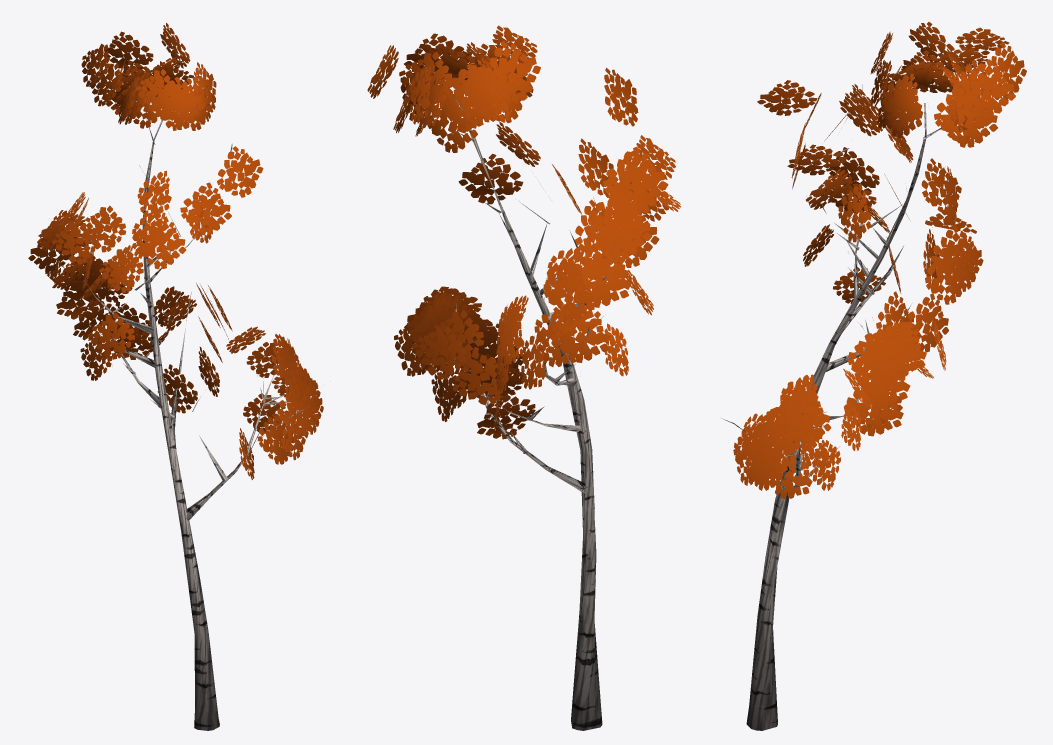
File: tree-health-5-mature.glb
3 renders of one model, left to right at view 1: azimuth 30°, elevation 25°; view 2: azimuth 150°, elevation 25°; view 3: azimuth 270°, elevation 25°, orthographic. The views are drawn at different scales.
Visible parts, largest first — view 1: Birch_5; view 2: Birch_5; view 3: Birch_5.
Boxes of the visible parts, x1,y1,x2,y2 form: Birch_5: (28,23,330,730); Birch_5: (367,25,680,730); Birch_5: (721,22,1026,730).
Size of the model in its own units: 2.98 by 6.73 by 2.74.
Materials: 2 (2 with a texture image).
